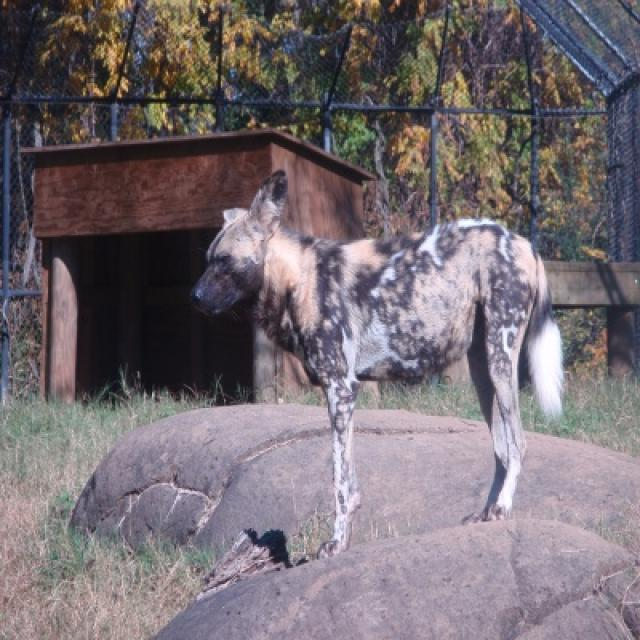hyena: (192, 171, 562, 555)
